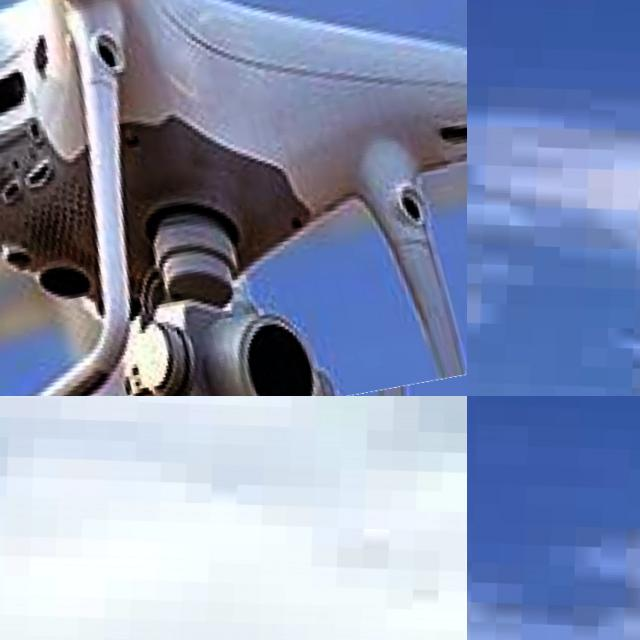drone: (0, 0, 467, 396)
